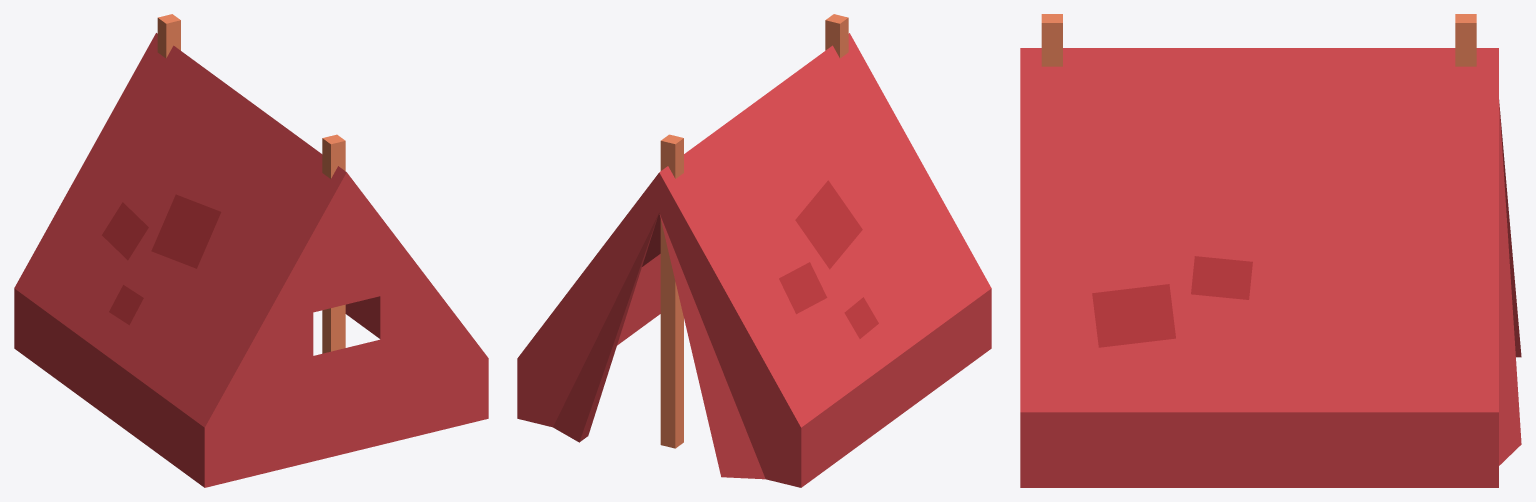
Rendered from d_kenney_tente_ouverte.glb.
3 views of the same model, side by side, from view 1: azimuth 30°, elevation 25°; view 2: azimuth 150°, elevation 25°; view 3: azimuth 270°, elevation 25° (orthographic). The views are drawn at different scales.
Parts seen in each view (by area): view 1: d_kenney_tente_ouverte; view 2: d_kenney_tente_ouverte; view 3: d_kenney_tente_ouverte.
Boxes of the visible parts, x1,y1,x2,y2 form: d_kenney_tente_ouverte: [14, 14, 488, 487]; d_kenney_tente_ouverte: [517, 14, 991, 487]; d_kenney_tente_ouverte: [1020, 14, 1521, 487].
Size of the model in its own units: 0.5476 by 0.5611 by 0.6664.
Materials: 1 (1 with a texture image).
